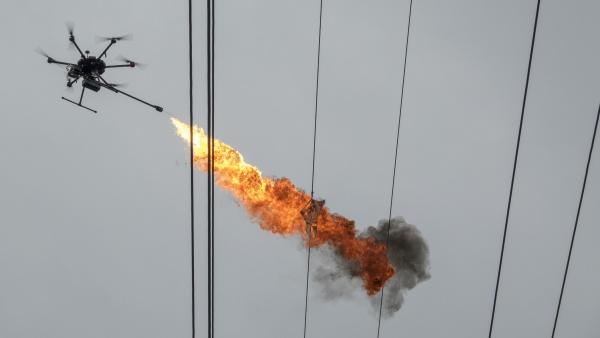drone: (31, 30, 152, 99)
